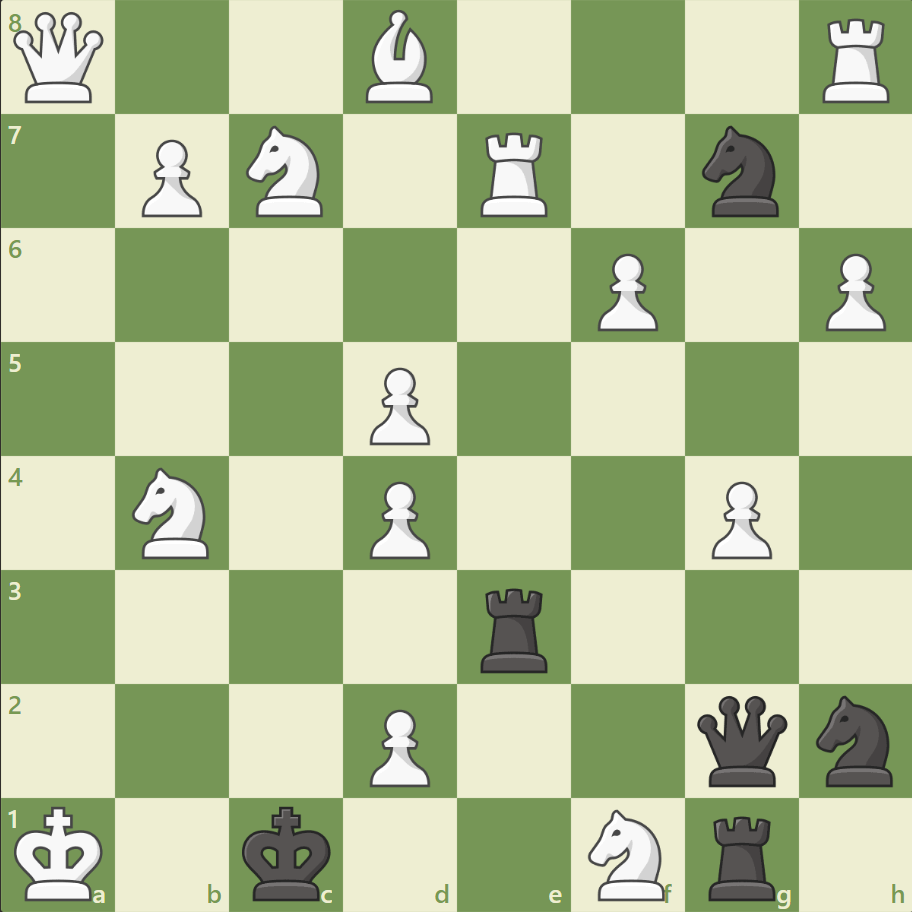B: (358, 6, 442, 109)
K: (11, 798, 111, 906)
N: (124, 461, 222, 564), (238, 121, 335, 223), (579, 802, 676, 904)
P: (133, 132, 208, 223), (701, 473, 776, 564), (588, 246, 662, 337), (815, 246, 889, 337), (361, 359, 435, 450), (361, 473, 435, 564), (361, 700, 435, 791)
Q: (10, 9, 109, 108)
R: (814, 12, 897, 109), (473, 125, 556, 222)
k: (238, 798, 338, 906)
n: (806, 688, 903, 791), (692, 121, 789, 223)
q: (691, 690, 790, 789)
r: (700, 806, 783, 904), (473, 579, 556, 676)
